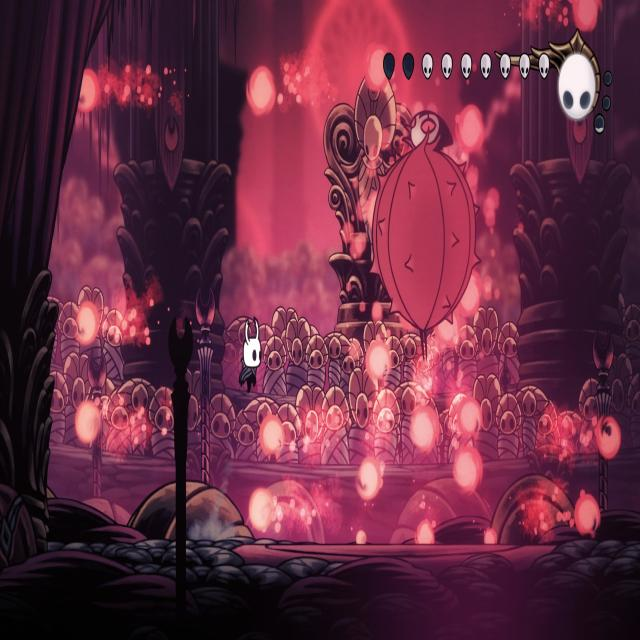Player: (236, 314, 263, 396)
Pufferfish: (367, 107, 483, 366)
Tiny Fireballs: (452, 447, 482, 494), (456, 106, 484, 156), (249, 67, 276, 116), (411, 408, 439, 453), (364, 44, 388, 94), (572, 494, 599, 538), (74, 399, 99, 445), (355, 458, 381, 501), (570, 0, 602, 34), (76, 70, 100, 115), (596, 416, 620, 460), (457, 273, 479, 318), (76, 302, 99, 345), (260, 415, 284, 456), (248, 491, 272, 532), (364, 341, 389, 380), (457, 397, 480, 437), (416, 522, 434, 544)
